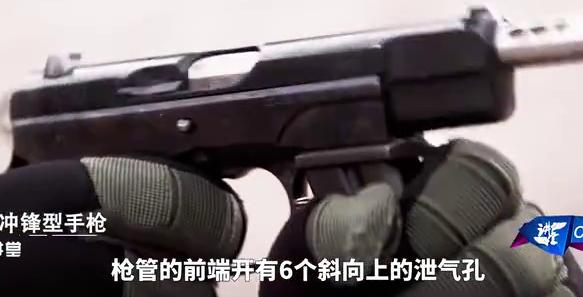gun: (1, 1, 583, 297)
